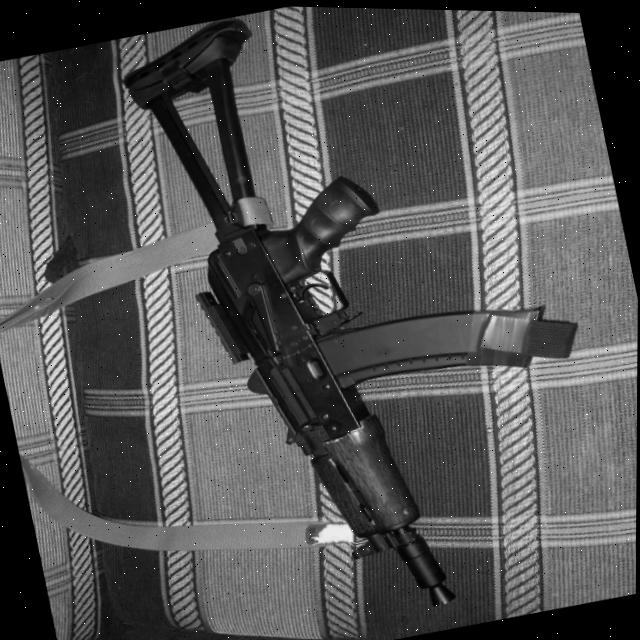firearm: (109, 2, 596, 640)
